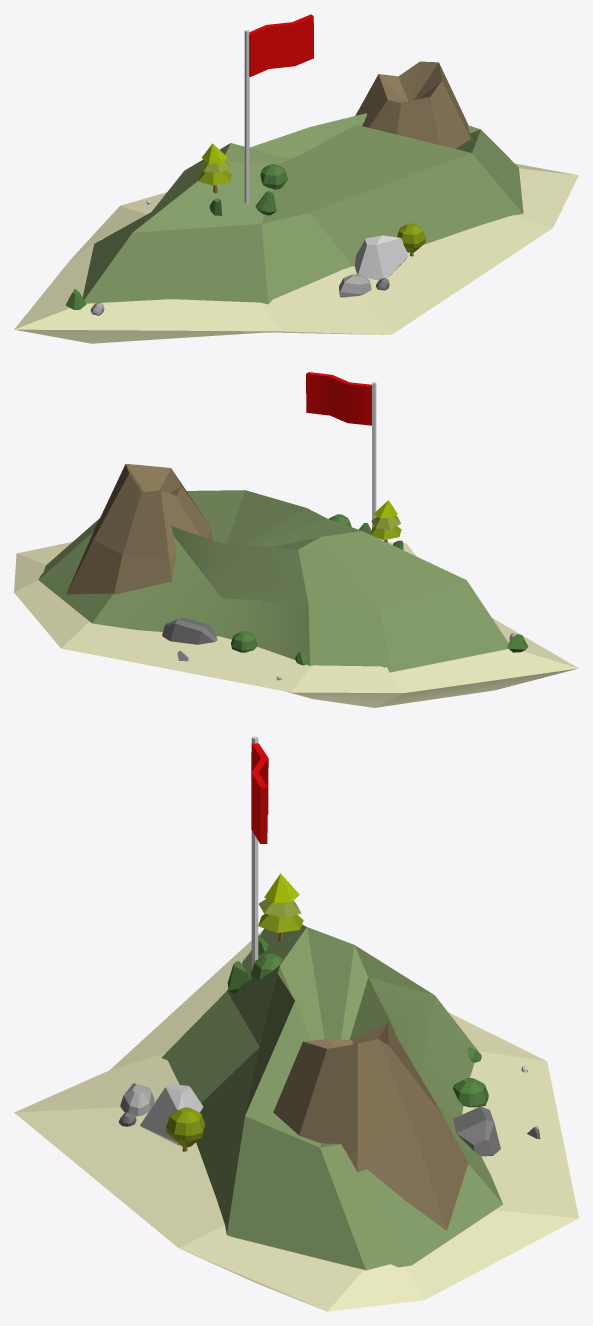
Rendered from island2.fbx.
3 views of the same model, one above another, from view 1: azimuth 30°, elevation 25°; view 2: azimuth 150°, elevation 25°; view 3: azimuth 270°, elevation 25° (orthographic). The views are drawn at different scales.
Parts seen in each view (by area): view 1: pSphere1, pSphere2, pCone1, pCube1, pSphere15, pCylinder1, pSphere3, pSphere7, pSphere4; view 2: pSphere1, pSphere2, pCone1, pCube1, pSphere10, pCylinder1, pSphere8; view 3: pSphere1, pSphere2, pCone1, pCube1, pSphere15, pSphere10, pSphere7, pCylinder1, pSphere3, pSphere8.
Boxes of the visible parts, x1,y1,x2,y2 form: pSphere1: [82, 113, 523, 304]; pSphere2: [14, 163, 578, 343]; pCone1: [355, 61, 470, 148]; pCube1: [249, 14, 313, 76]; pSphere15: [354, 235, 408, 280]; pCylinder1: [244, 30, 249, 204]; pSphere3: [339, 274, 371, 297]; pSphere7: [397, 223, 425, 252]; pSphere4: [260, 164, 288, 189]; pSphere1: [38, 490, 508, 672]; pSphere2: [14, 542, 578, 707]; pCone1: [66, 464, 212, 594]; pCube1: [306, 372, 371, 425]; pSphere10: [162, 617, 217, 644]; pCylinder1: [372, 382, 376, 528]; pSphere8: [231, 631, 257, 652]; pSphere1: [161, 924, 502, 1270]; pSphere2: [14, 930, 578, 1311]; pCone1: [273, 1022, 468, 1230]; pCube1: [251, 743, 268, 843]; pSphere15: [140, 1084, 203, 1145]; pSphere10: [453, 1106, 500, 1156]; pSphere7: [166, 1107, 204, 1147]; pCylinder1: [251, 736, 258, 970]; pSphere3: [120, 1083, 154, 1116]; pSphere8: [453, 1078, 488, 1107].
Bounding box in the file's own units: 42.26 × 21.16 × 26.23.
